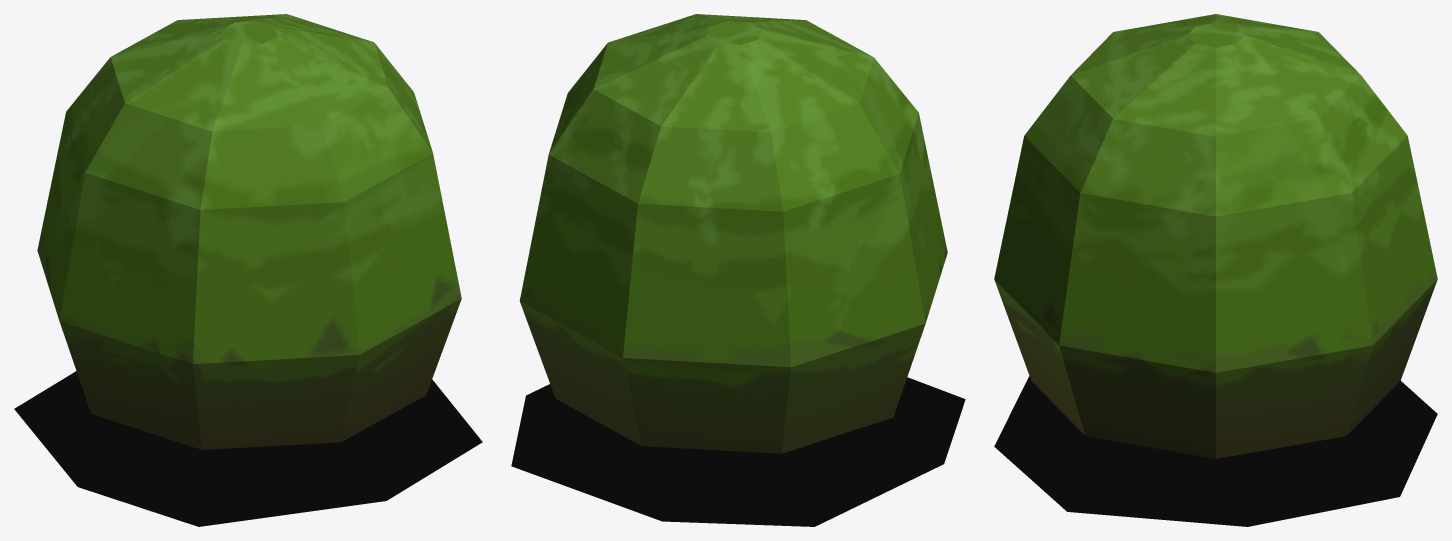
The model's file is Tree_001.fbx.
3 renders of one model, left to right at view 1: azimuth 30°, elevation 25°; view 2: azimuth 150°, elevation 25°; view 3: azimuth 270°, elevation 25°, orthographic.
Visible parts, largest first — view 1: Tree_001, Shadow; view 2: Tree_001, Shadow; view 3: Tree_001, Shadow.
Boxes of the visible parts, x1,y1,x2,y2 form: Tree_001: [37, 14, 461, 449]; Shadow: [14, 371, 482, 526]; Tree_001: [519, 14, 947, 453]; Shadow: [511, 377, 965, 526]; Tree_001: [994, 14, 1437, 458]; Shadow: [994, 376, 1437, 526].
Size of the model in its own units: 200 by 198 by 200.
